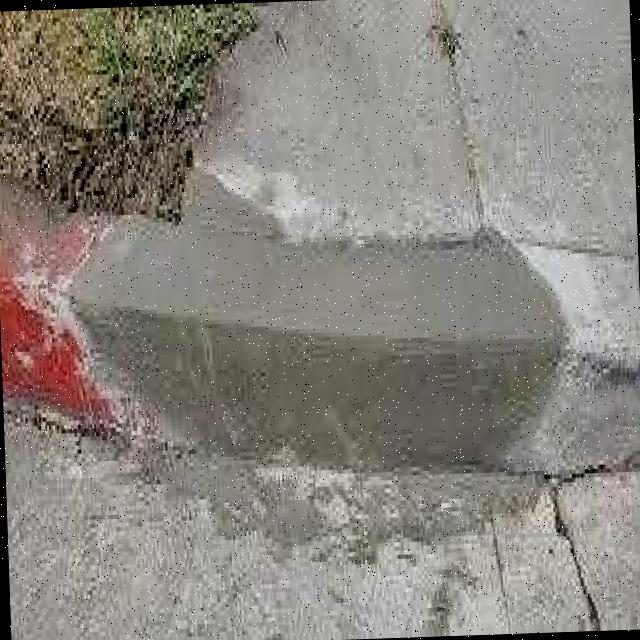curb: (3, 197, 640, 516)
